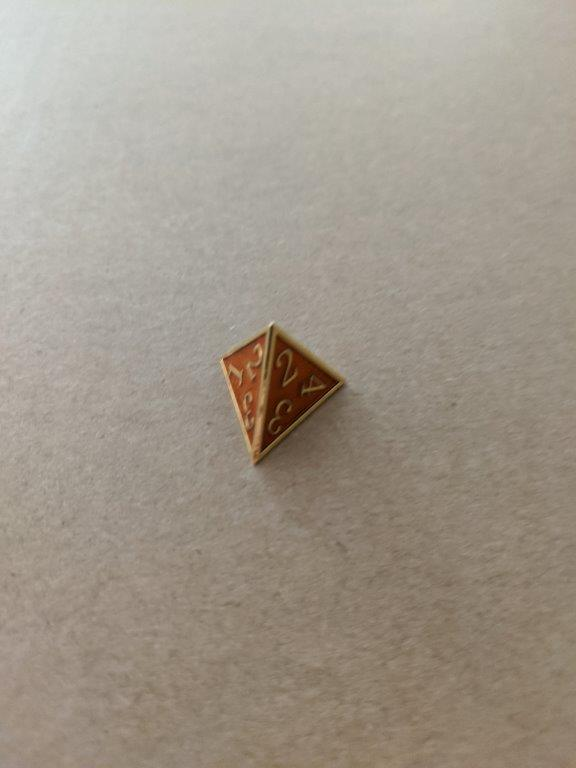d4-2: (210, 319, 351, 471)
